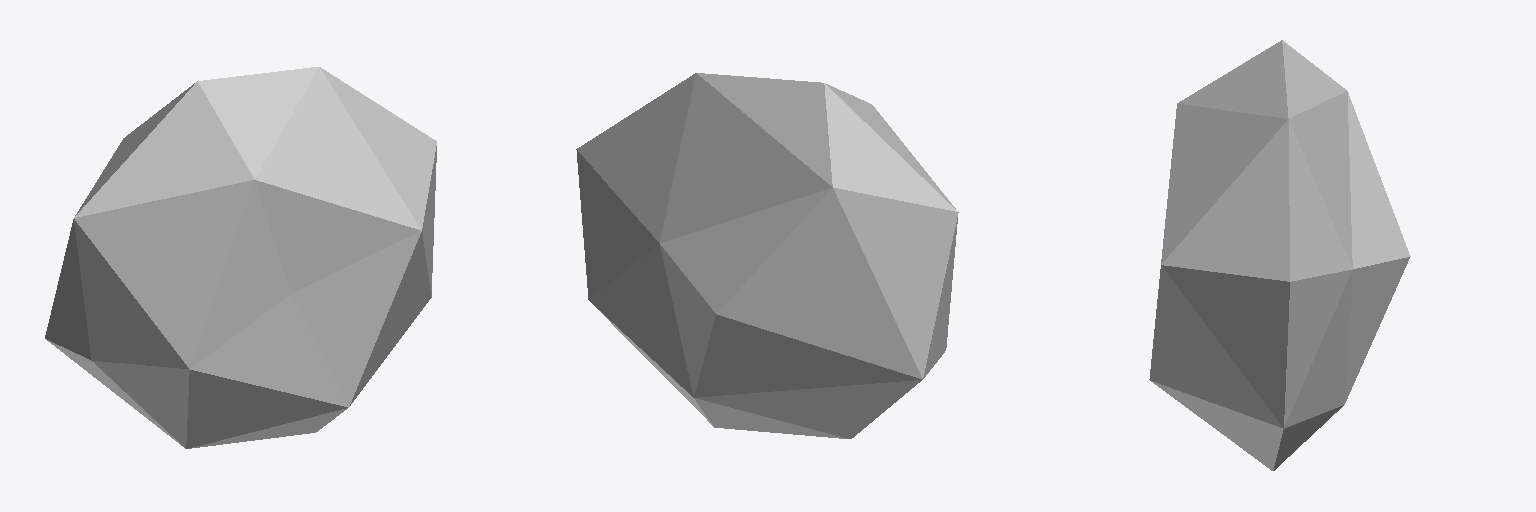
File: stone_12.obj
3 renders of one model, left to right at view 1: azimuth 30°, elevation 25°; view 2: azimuth 150°, elevation 25°; view 3: azimuth 270°, elevation 25°, orthographic.
Parts seen in each view (by area): view 1: (null); view 2: (null); view 3: (null).
Part boxes in pixels (x1,y1,x2,y2): (null): (45, 67, 436, 448); (null): (576, 73, 958, 438); (null): (1149, 40, 1410, 470).
Size of the model in its own units: 2.13 by 2.06 by 1.29.